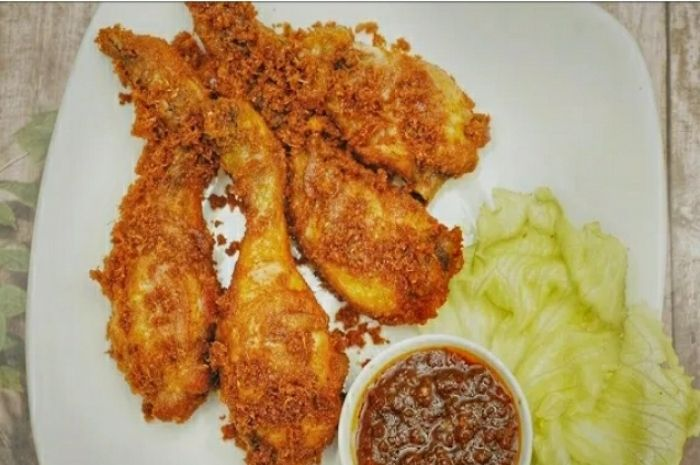Ayam: (82, 18, 218, 415), (185, 23, 511, 160), (207, 106, 333, 452), (209, 136, 447, 297)
